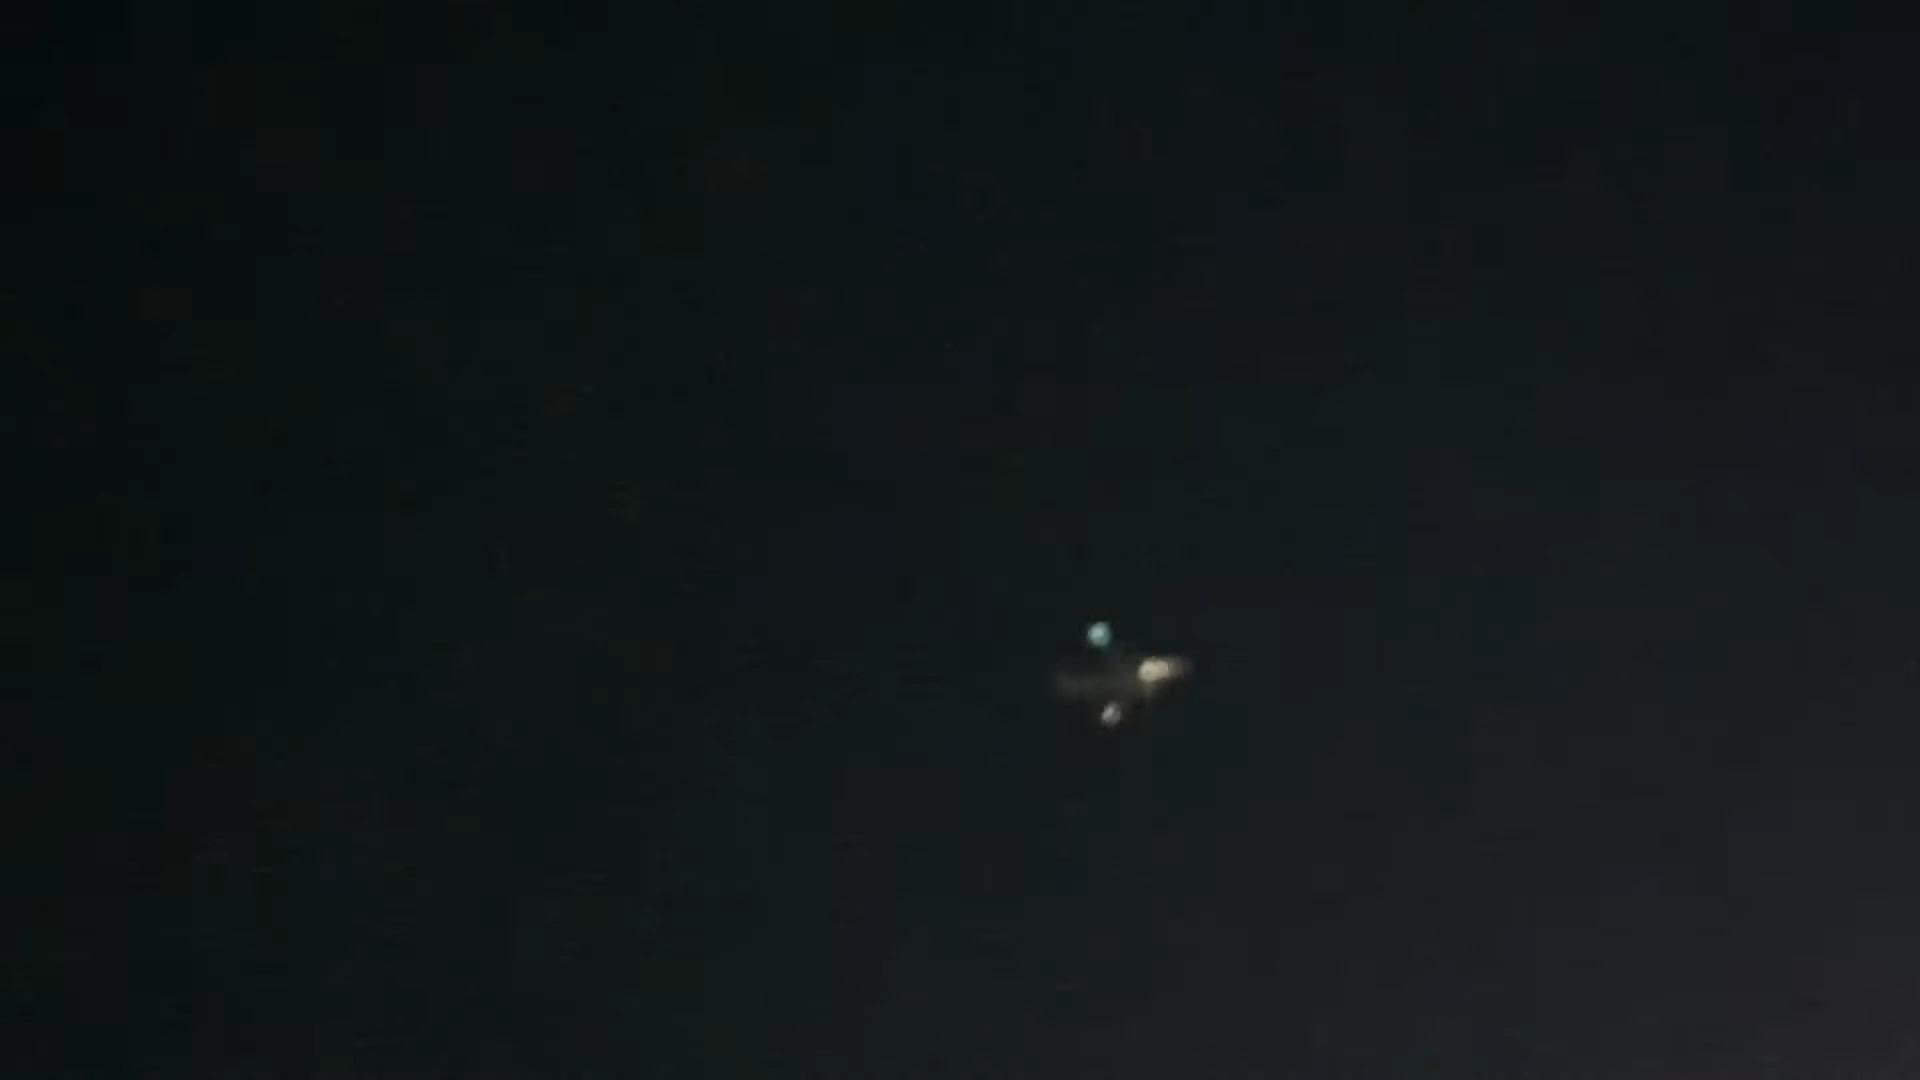Plane: (924, 584, 1302, 764)
